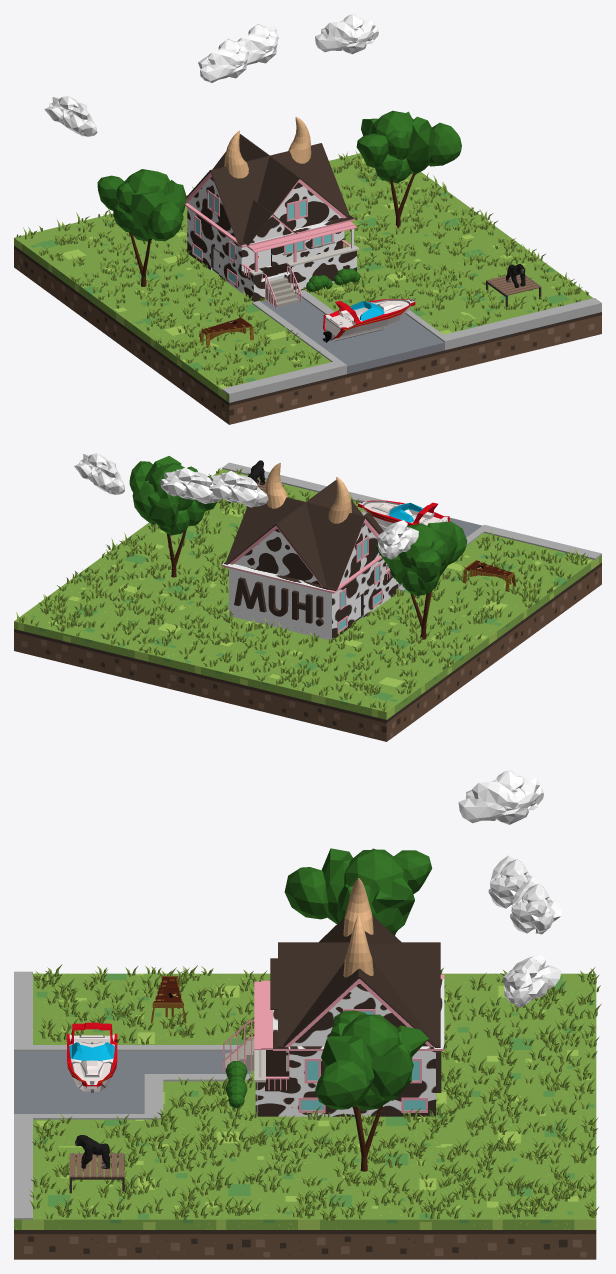
3 views of the same model, one above another, from view 1: azimuth 30°, elevation 25°; view 2: azimuth 150°, elevation 25°; view 3: azimuth 270°, elevation 25° (orthographic). The views are drawn at different scales.
Parts seen in each view (by area): view 1: Cube.006, Cube.1242, Circle.012_Grass_0.192, Cube.007, tree, tree.001, VEHICLES_BOAT, Cube.009, OBJRANDOM_MARIMBA; view 2: Cube.006, Cube.1242, Circle.012_Grass_0.192, Cube.007, tree.001, tree, VEHICLES_BOAT, OBJRANDOM_MARIMBA; view 3: Cube.006, Circle.012_Grass_0.192, Cube.1242, tree, Cube.007, tree.001, VEHICLES_BOAT, Cube.009, OBJRANDOM_MARIMBA, ANIMAL_GORILA.
Boxes of the visible parts, bbox=[...] form: Cube.006: bbox=[14, 153, 601, 424]; Cube.1242: bbox=[185, 117, 359, 308]; Circle.012_Grass_0.192: bbox=[16, 150, 588, 386]; Cube.007: bbox=[44, 14, 378, 136]; tree: bbox=[356, 110, 461, 228]; tree.001: bbox=[97, 169, 186, 286]; VEHICLES_BOAT: bbox=[322, 298, 415, 342]; Cube.009: bbox=[486, 274, 541, 306]; OBJRANDOM_MARIMBA: bbox=[200, 316, 253, 347]; Cube.006: bbox=[14, 462, 601, 741]; Cube.1242: bbox=[221, 462, 398, 640]; Circle.012_Grass_0.192: bbox=[16, 468, 588, 711]; Cube.007: bbox=[74, 453, 418, 559]; tree.001: bbox=[375, 521, 467, 639]; tree: bbox=[129, 456, 216, 577]; VEHICLES_BOAT: bbox=[358, 500, 449, 527]; OBJRANDOM_MARIMBA: bbox=[463, 560, 515, 591]; Cube.006: bbox=[14, 971, 596, 1259]; Circle.012_Grass_0.192: bbox=[29, 964, 601, 1220]; Cube.1242: bbox=[223, 878, 444, 1116]; tree: bbox=[315, 1010, 428, 1171]; Cube.007: bbox=[458, 770, 561, 1007]; tree.001: bbox=[284, 848, 432, 935]; VEHICLES_BOAT: bbox=[67, 1022, 117, 1092]; Cube.009: bbox=[69, 1153, 124, 1193]; OBJRANDOM_MARIMBA: bbox=[151, 976, 186, 1023]; ANIMAL_GORILA: bbox=[75, 1135, 109, 1168].
Bounding box in the file's own units: 4071 × 2175 × 4040.
36 materials, 3 textured.
